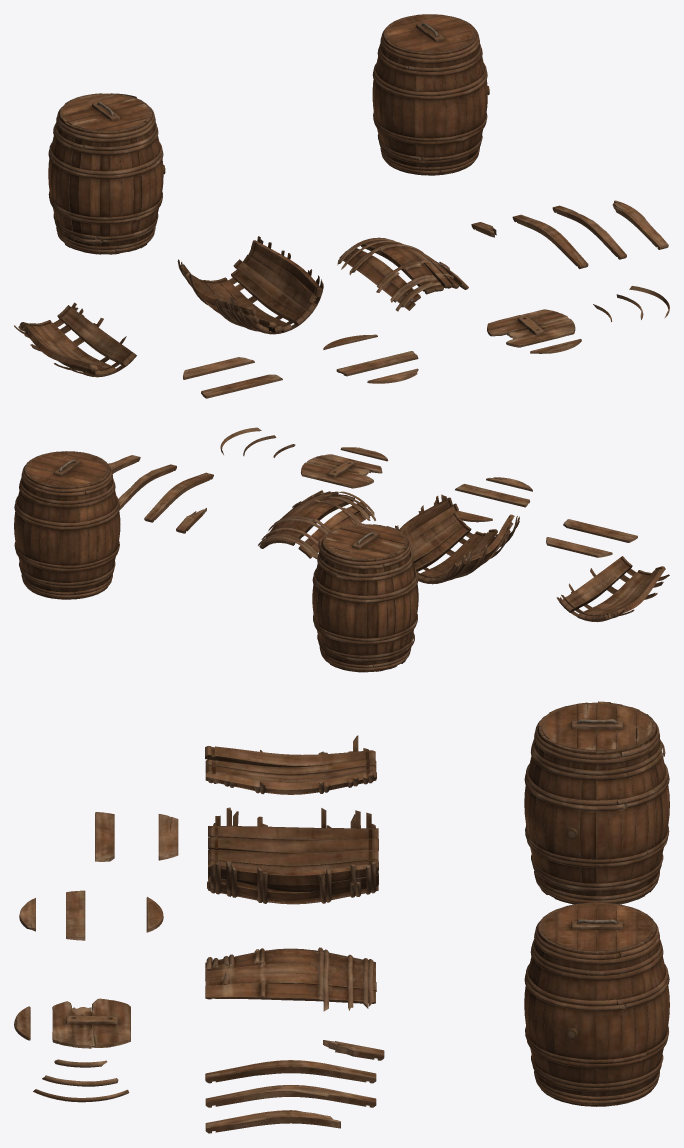
File: wooden_barrels_01.glb
3 views of the same model, one above another, from view 1: azimuth 30°, elevation 25°; view 2: azimuth 150°, elevation 25°; view 3: azimuth 270°, elevation 25° (orthographic). The views are drawn at different scales.
Visible parts, largest first — view 1: wooden_barrels_01_barrel02, wooden_barrels_01_barrel01, wooden_barrels_01_piece01, wooden_barrels_01_piece03, wooden_barrels_01_piece02, wooden_barrels_01_piece08, wooden_barrels_01_piece04, wooden_barrels_01_piece05, wooden_barrels_01_piece06, wooden_barrels_01_piece11, wooden_barrels_01_piece14, wooden_barrels_01_piece13; view 2: wooden_barrels_01_barrel02, wooden_barrels_01_barrel01, wooden_barrels_01_piece01, wooden_barrels_01_piece03, wooden_barrels_01_piece02, wooden_barrels_01_piece08, wooden_barrels_01_piece04, wooden_barrels_01_piece14, wooden_barrels_01_piece11, wooden_barrels_01_piece05, wooden_barrels_01_piece13; view 3: wooden_barrels_01_barrel01, wooden_barrels_01_barrel02, wooden_barrels_01_piece01, wooden_barrels_01_piece03, wooden_barrels_01_piece02, wooden_barrels_01_piece08, wooden_barrels_01_piece04, wooden_barrels_01_piece05, wooden_barrels_01_piece06, wooden_barrels_01_piece11, wooden_barrels_01_piece14, wooden_barrels_01_piece13 (+1 smaller).
Part boxes in pixels (x1,y1,x2,y2): wooden_barrels_01_barrel02: (48, 93, 165, 254); wooden_barrels_01_barrel01: (372, 14, 489, 175); wooden_barrels_01_piece01: (177, 236, 323, 334); wooden_barrels_01_piece03: (337, 237, 468, 311); wooden_barrels_01_piece02: (14, 302, 136, 377); wooden_barrels_01_piece08: (487, 309, 575, 347); wooden_barrels_01_piece04: (512, 214, 588, 268); wooden_barrels_01_piece05: (552, 205, 626, 259); wooden_barrels_01_piece06: (612, 200, 668, 249); wooden_barrels_01_piece11: (336, 351, 418, 376); wooden_barrels_01_piece14: (201, 374, 282, 398); wooden_barrels_01_piece13: (183, 357, 254, 379); wooden_barrels_01_barrel02: (312, 523, 418, 672); wooden_barrels_01_barrel01: (14, 451, 120, 599); wooden_barrels_01_piece01: (395, 494, 519, 584); wooden_barrels_01_piece03: (258, 490, 375, 558); wooden_barrels_01_piece02: (556, 556, 669, 622); wooden_barrels_01_piece08: (301, 454, 382, 488); wooden_barrels_01_piece04: (144, 472, 213, 522); wooden_barrels_01_piece14: (563, 519, 637, 542); wooden_barrels_01_piece11: (455, 484, 529, 507); wooden_barrels_01_piece05: (118, 464, 176, 510); wooden_barrels_01_piece13: (546, 537, 612, 557); wooden_barrels_01_barrel01: (524, 902, 669, 1106); wooden_barrels_01_barrel02: (524, 701, 669, 904); wooden_barrels_01_piece01: (207, 807, 378, 904); wooden_barrels_01_piece03: (205, 947, 376, 1011); wooden_barrels_01_piece02: (205, 735, 376, 794); wooden_barrels_01_piece08: (52, 998, 130, 1048); wooden_barrels_01_piece04: (205, 1060, 376, 1083); wooden_barrels_01_piece05: (205, 1085, 376, 1107); wooden_barrels_01_piece06: (205, 1110, 340, 1133); wooden_barrels_01_piece11: (66, 890, 85, 940); wooden_barrels_01_piece14: (95, 812, 114, 861); wooden_barrels_01_piece13: (158, 814, 178, 860).
Bounding box in the file's own units: 4.44 × 0.9567 × 3.34.
3 materials, 3 textured.
